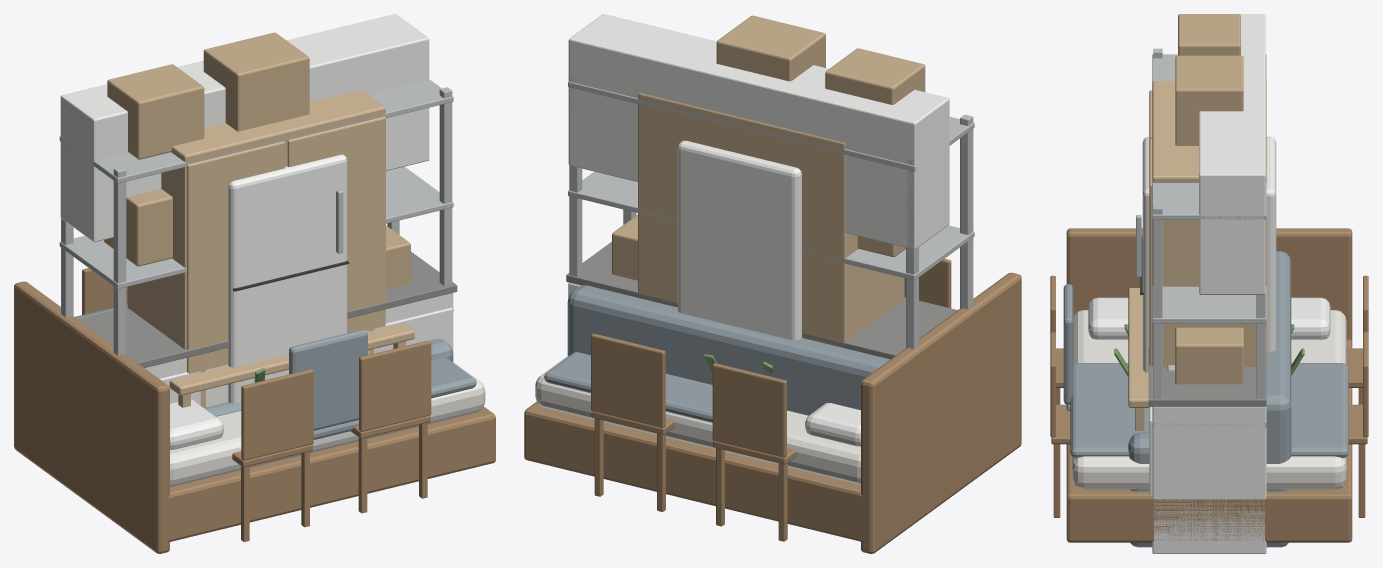
The model's file is furniture.glb.
3 renders of one model, left to right at view 1: azimuth 30°, elevation 25°; view 2: azimuth 150°, elevation 25°; view 3: azimuth 270°, elevation 25°, orthographic. The views are drawn at different scales.
Parts seen in each view (by area): view 1: bed, rack, kitchen, wardrobe, fridge, dining, desk, sofa; view 2: bed, kitchen, wardrobe, rack, fridge, dining, sofa; view 3: bed, kitchen, rack, wardrobe, dining, sofa, fridge, desk, plant.
Boxes of the visible parts, x1,y1,x2,y2 form: bed: [14, 281, 495, 553]; rack: [59, 32, 453, 355]; kitchen: [60, 14, 457, 407]; wardrobe: [127, 90, 385, 407]; fridge: [228, 154, 349, 403]; dining: [82, 268, 431, 541]; desk: [289, 329, 367, 439]; sofa: [75, 304, 453, 416]; bed: [524, 272, 1021, 553]; kitchen: [566, 14, 957, 359]; wardrobe: [638, 93, 904, 346]; rack: [568, 15, 974, 348]; fridge: [677, 140, 801, 340]; dining: [591, 258, 951, 541]; sofa: [567, 285, 890, 415]; bed: [1066, 228, 1352, 542]; kitchen: [1148, 14, 1266, 553]; rack: [1152, 14, 1266, 530]; wardrobe: [1149, 81, 1266, 366]; dining: [1050, 275, 1368, 517]; sofa: [1128, 251, 1291, 547]; fridge: [1136, 136, 1276, 371]; desk: [1063, 284, 1073, 411]; plant: [1114, 324, 1304, 376].
Bounding box in the file's own units: 2.03 × 2.32 × 1.67.
